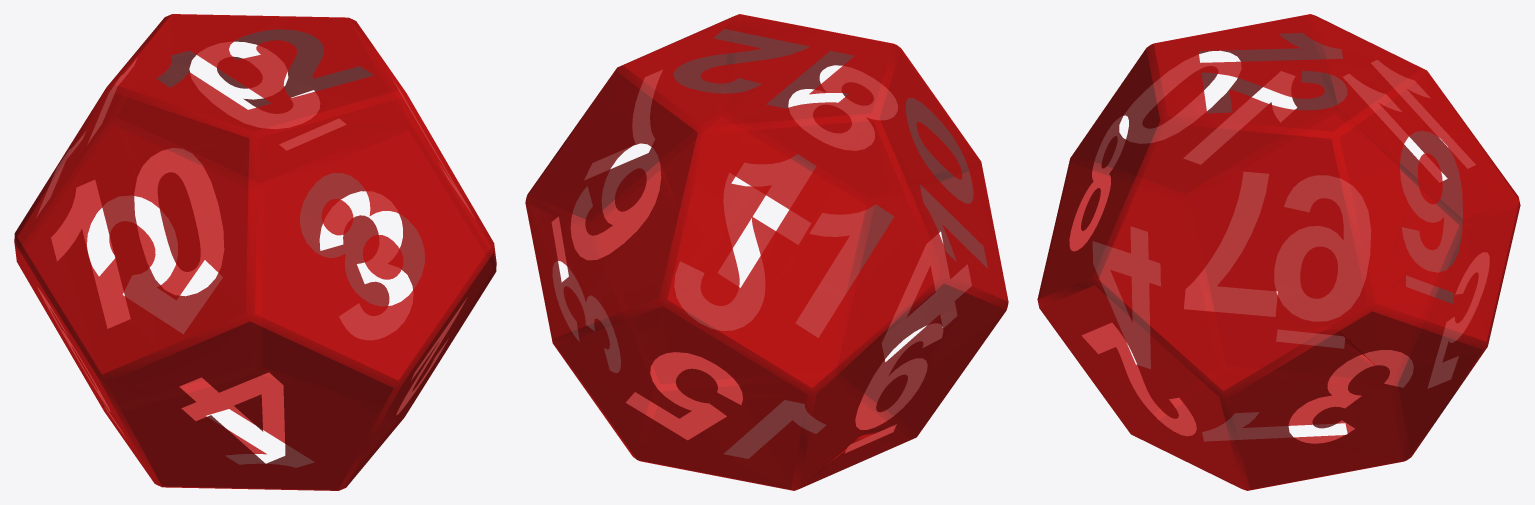
The model's file is d12_lowpoly.fbx.
The picture shows the model from 3 angles, left to right: view 1: azimuth 30°, elevation 25°; view 2: azimuth 150°, elevation 25°; view 3: azimuth 270°, elevation 25°; orthographic projection. The views are drawn at different scales.
Parts seen in each view (by area): view 1: 12_Sided; view 2: 12_Sided; view 3: 12_Sided.
Boxes of the visible parts, <box> form: 12_Sided: <box>14,14,496,490</box>; 12_Sided: <box>525,14,1008,490</box>; 12_Sided: <box>1037,14,1520,490</box>.
Size of the model in its own units: 11.65 by 9.79 by 11.93.
